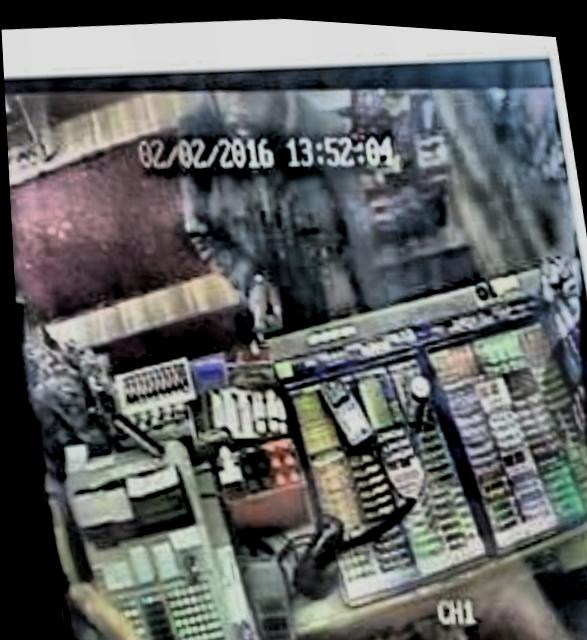pistol: (219, 255, 290, 338)
